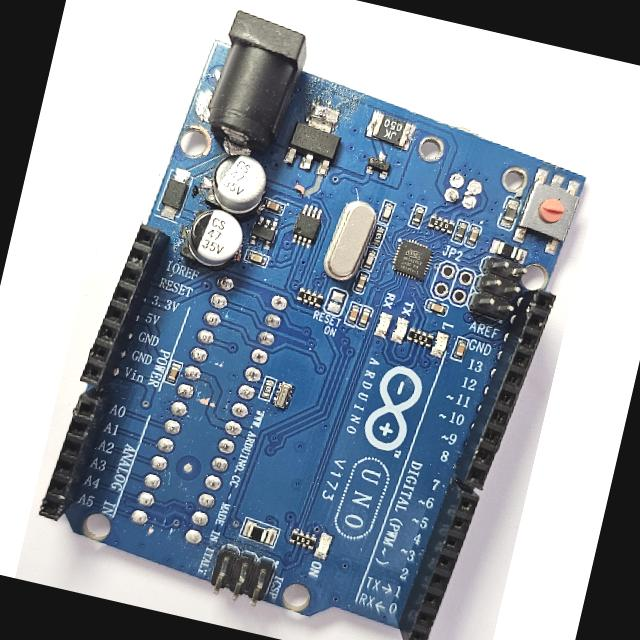missing_atmega: (123, 271, 295, 554)
missing_usb: (399, 118, 521, 230)
